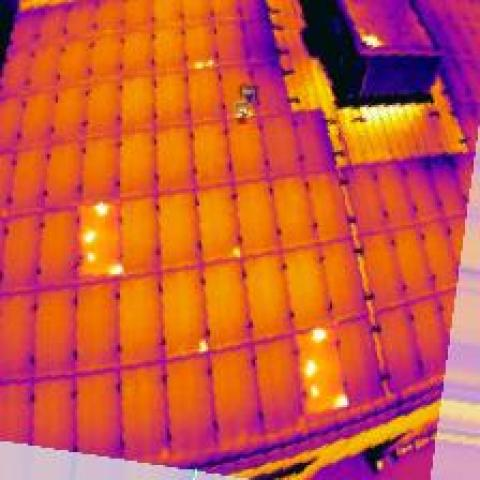fault: (307, 322, 332, 347), (86, 197, 114, 219), (75, 223, 99, 246), (326, 390, 351, 411), (186, 56, 221, 70), (302, 354, 319, 382), (306, 379, 324, 405), (105, 259, 124, 281), (193, 332, 210, 356), (79, 248, 99, 268), (225, 240, 244, 261)
